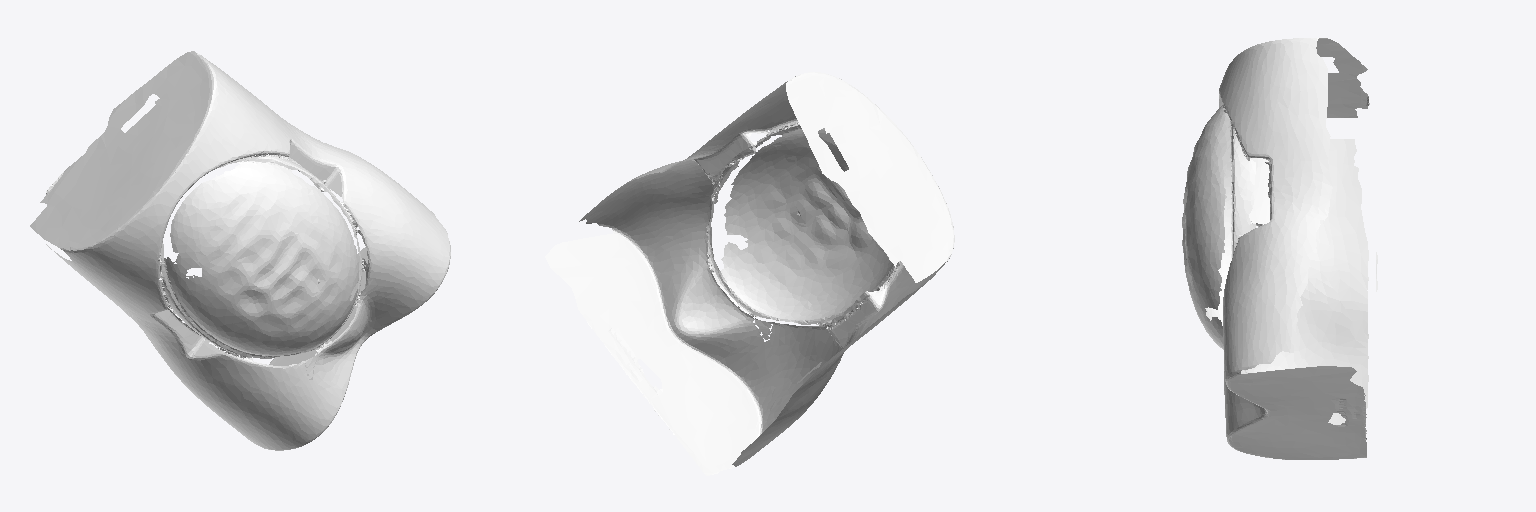
Rendered from ObstetricsPhantomSub.obj.
The picture shows the model from 3 angles: view 1: azimuth 30°, elevation 25°; view 2: azimuth 150°, elevation 25°; view 3: azimuth 270°, elevation 25°; orthographic projection.
Size of the model in its own units: 490 by 493 by 221.